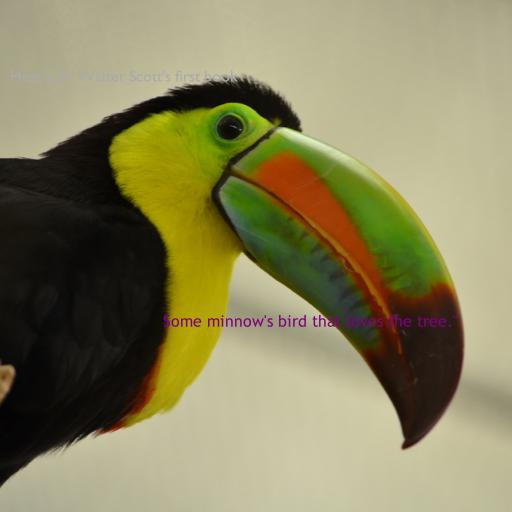Gill Sans: (10, 70, 238, 82)
Trebuchet MS: (162, 314, 458, 327)
